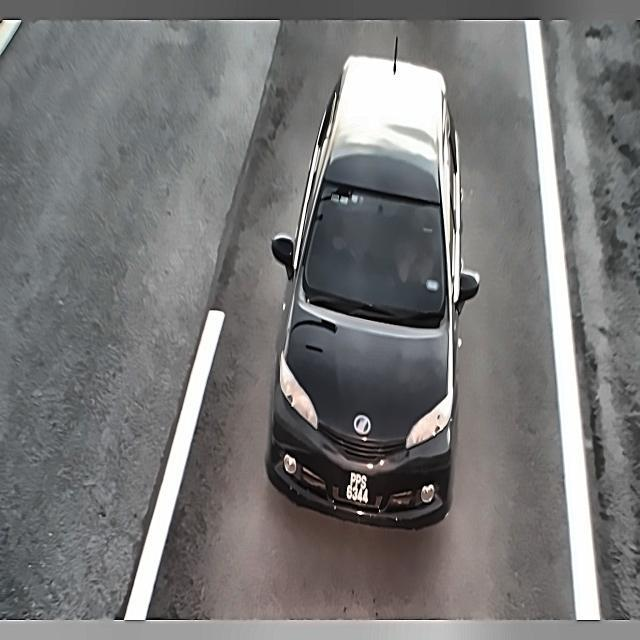car: (338, 462, 380, 510)
